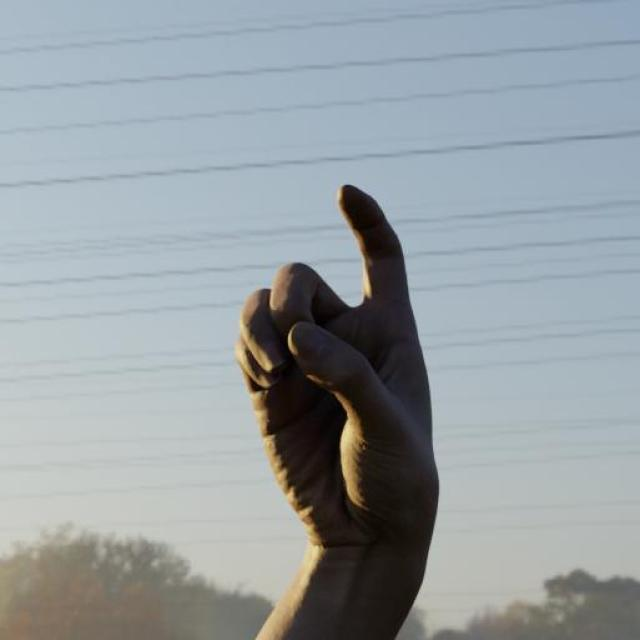X: (226, 184, 450, 567)
